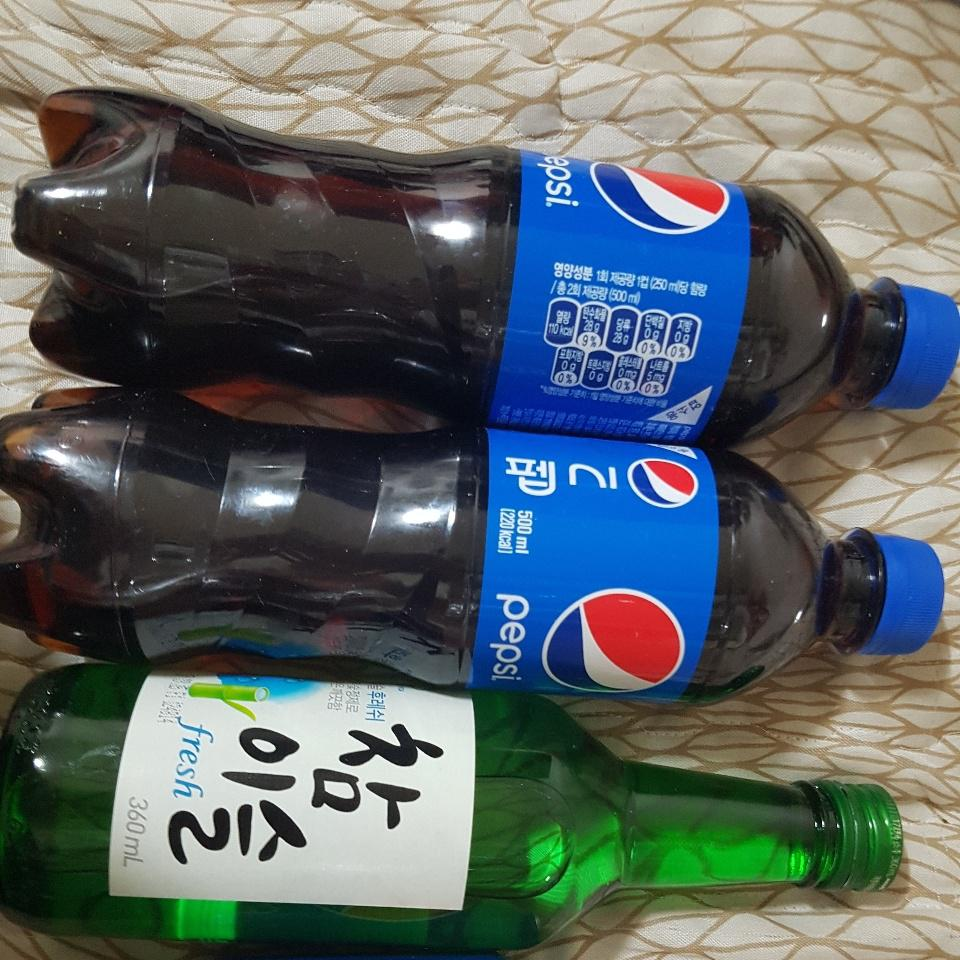soju: (8, 666, 906, 954)
